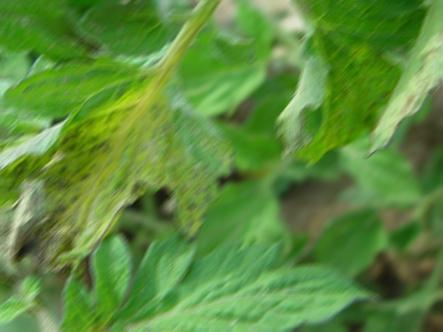Tomato leaf bacterial spot: (0, 38, 235, 282), (43, 217, 376, 332), (260, 0, 443, 200)
